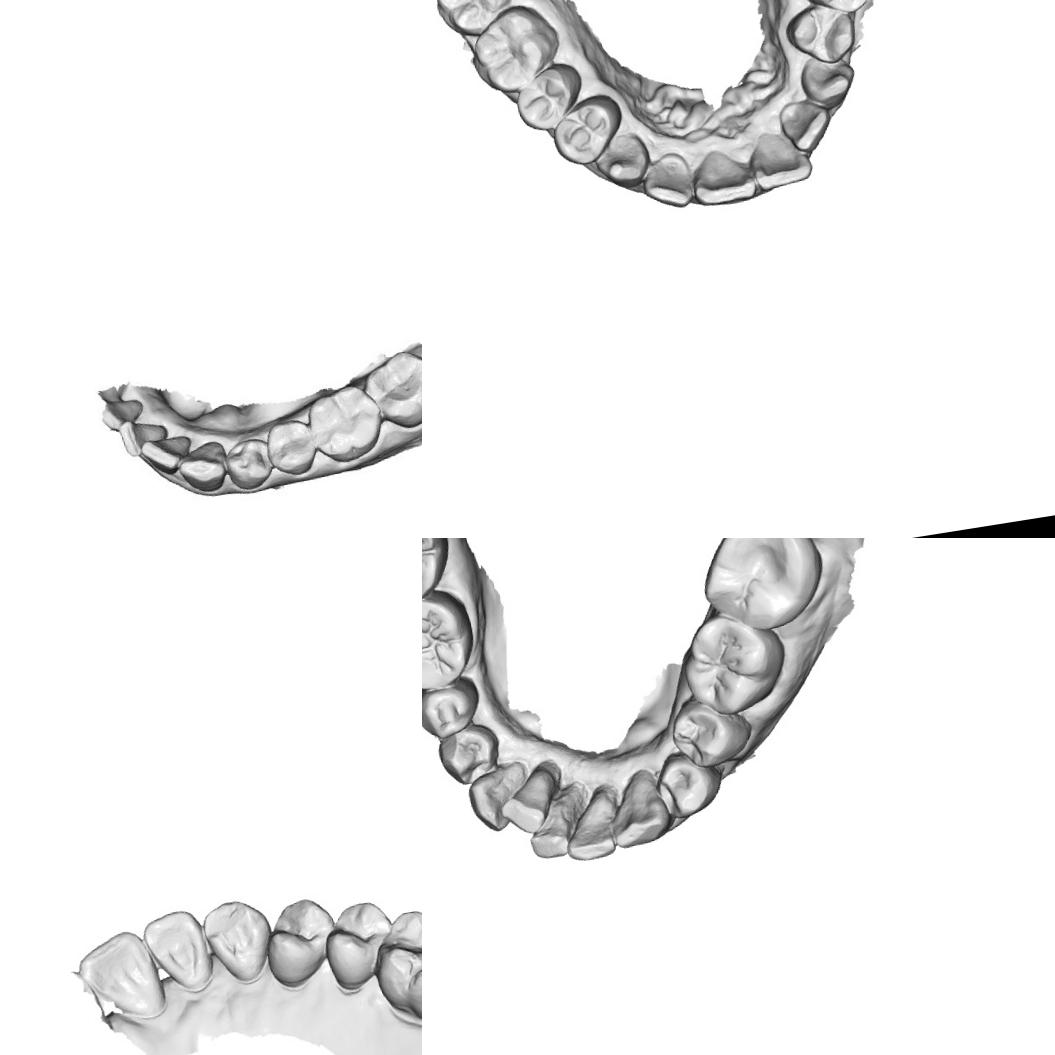canine: (199, 892, 278, 989), (602, 768, 673, 850), (464, 764, 534, 834), (796, 50, 861, 114), (174, 438, 233, 501), (591, 130, 654, 188)
incisor: (71, 924, 169, 1026), (137, 901, 222, 1000), (685, 139, 761, 210), (494, 764, 563, 839), (744, 122, 816, 190), (557, 790, 620, 864), (637, 146, 699, 215), (774, 95, 837, 158), (520, 798, 576, 865), (114, 415, 172, 459), (141, 436, 189, 474)
molar: (691, 538, 833, 641), (674, 604, 794, 721), (465, 0, 568, 104), (365, 899, 422, 1029), (300, 381, 383, 470), (422, 588, 480, 698), (361, 345, 422, 433), (423, 0, 523, 43)
premolar: (256, 890, 343, 991), (317, 897, 402, 993), (666, 698, 756, 775), (546, 90, 629, 172), (506, 59, 585, 136), (648, 745, 724, 825), (782, 0, 862, 72), (432, 718, 505, 788), (422, 673, 487, 744), (256, 414, 318, 480), (222, 432, 277, 494), (793, 0, 876, 22)
